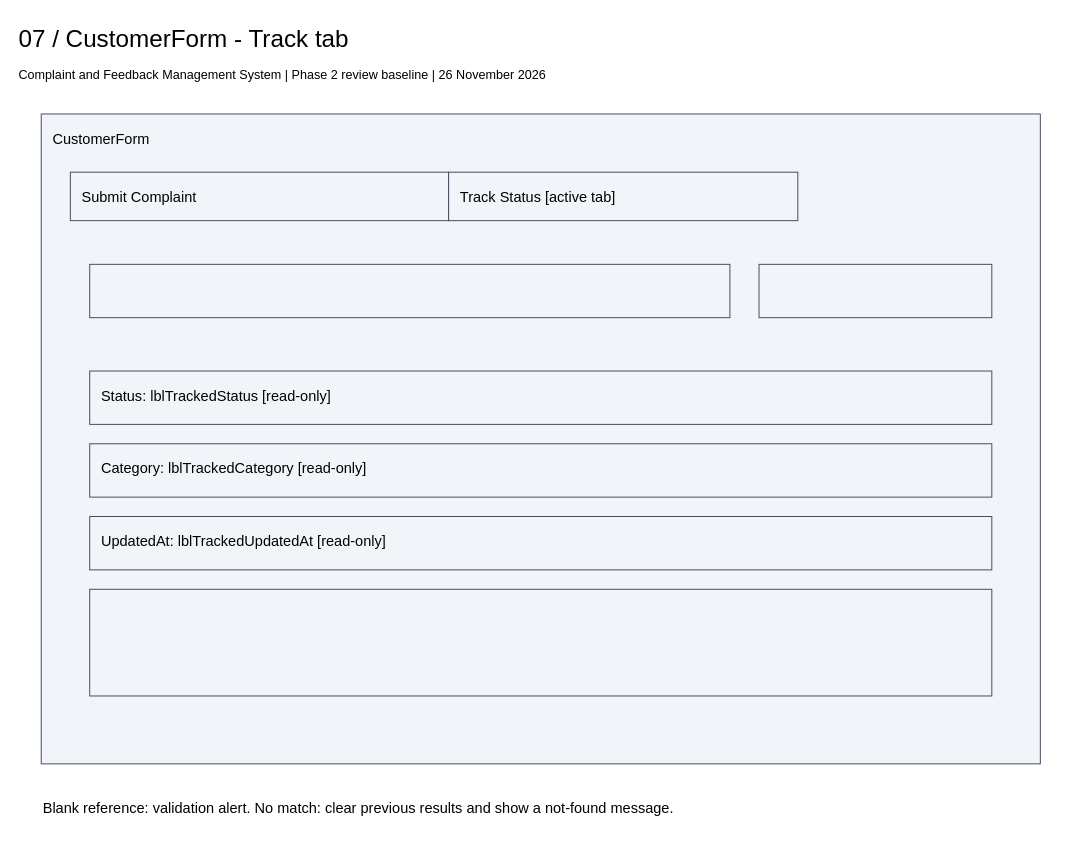
The diagram is 1081 pixels wide and 862 high, and some of its shapes have lost their labels. Each missing label, with the centre of its shape:
AgentNotes: txtTrackedAgentNotes [ReadOnly = true; Multiline = true]: point (540, 642)
btnSearch | Search: point (875, 290)
txtSearchRef [reference number]: point (409, 290)
